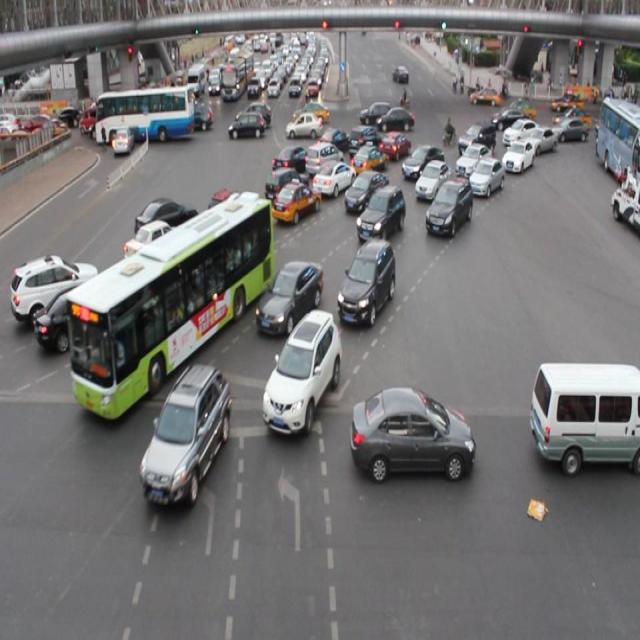car: (140, 364, 230, 506), (351, 382, 471, 478), (263, 309, 341, 435), (13, 254, 97, 322), (35, 282, 120, 349), (254, 256, 320, 340), (126, 254, 209, 317), (337, 242, 395, 324), (206, 209, 274, 269), (124, 221, 194, 273), (202, 188, 261, 243), (136, 197, 196, 245), (423, 177, 471, 235), (356, 185, 406, 239), (270, 177, 319, 225), (343, 170, 389, 216), (402, 143, 443, 184), (311, 158, 355, 196), (265, 167, 310, 203), (272, 143, 315, 179), (453, 143, 491, 183), (416, 159, 450, 201), (468, 158, 503, 198), (456, 123, 495, 158), (349, 125, 384, 162), (315, 125, 350, 161), (349, 142, 386, 176), (515, 124, 556, 153), (500, 140, 532, 176), (379, 130, 410, 163), (502, 116, 537, 142)
truck: (532, 362, 640, 471), (304, 142, 343, 177)
van: (70, 200, 272, 420)
